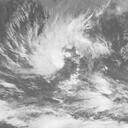cyclone: (30, 26, 86, 77)
